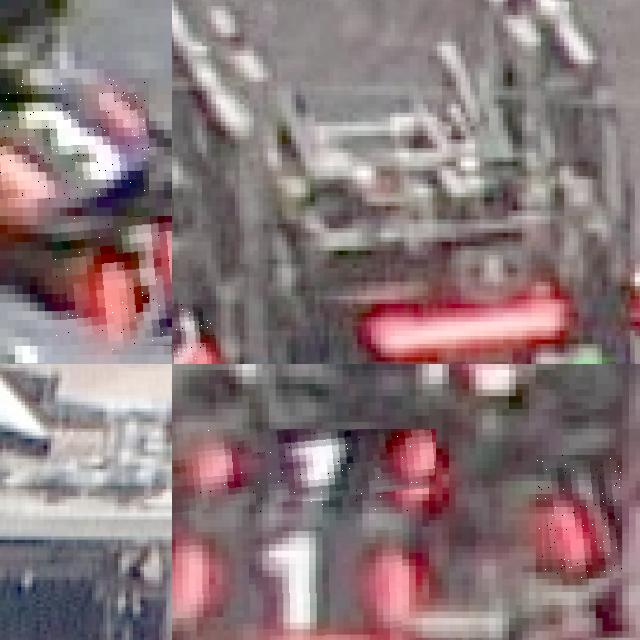R1: (172, 526, 402, 640), (172, 428, 435, 513), (536, 455, 622, 579)
R2: (172, 303, 216, 364)
R3: (0, 78, 149, 199), (52, 216, 172, 354)
